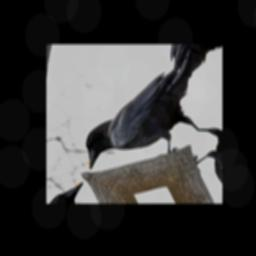Crow: (72, 53, 222, 197)
